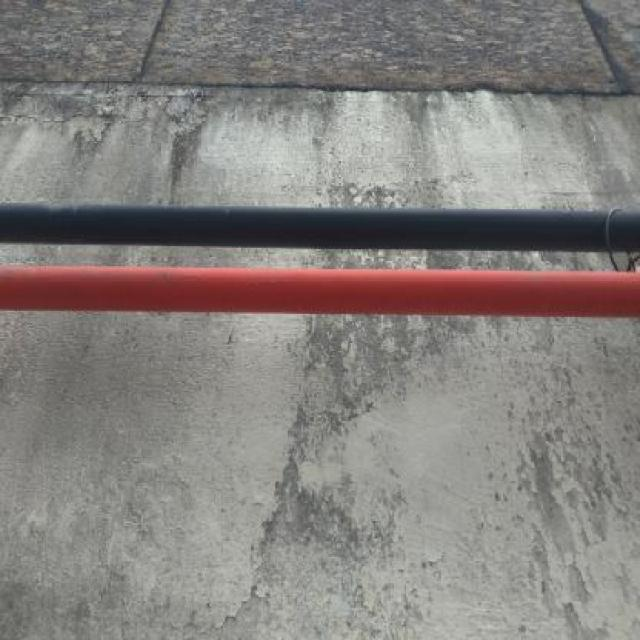gas: (0, 268, 640, 319), (1, 204, 636, 249)
